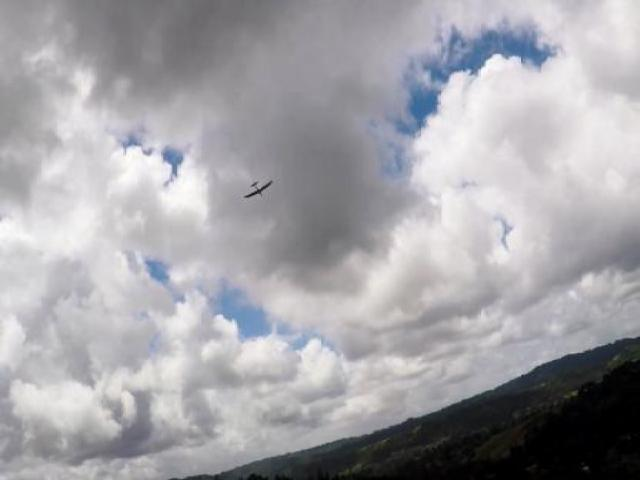uav: (242, 174, 276, 202)
